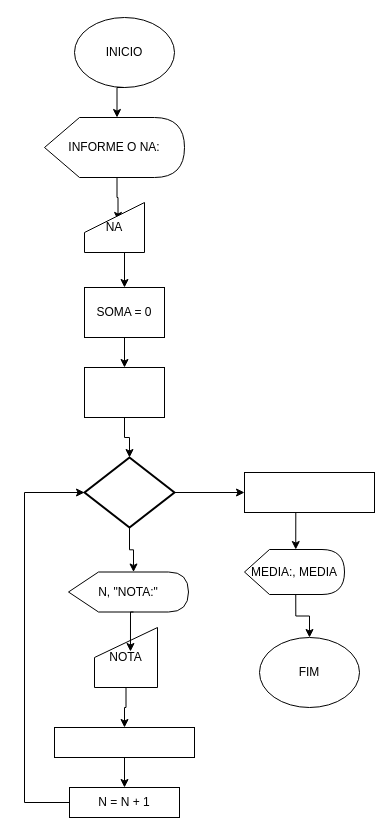
This 392x835 diagram has some shape labels left out. Here are the shapes that lost their labels. From the top down, the centre of each, then its label:
At point 124,392: "N = 1".
At point 129,492: "N <= NA".
At point 309,492: "MEDIA = SOMA / NA".
At point 124,742: "SOMA = SOMA + NOTA".
